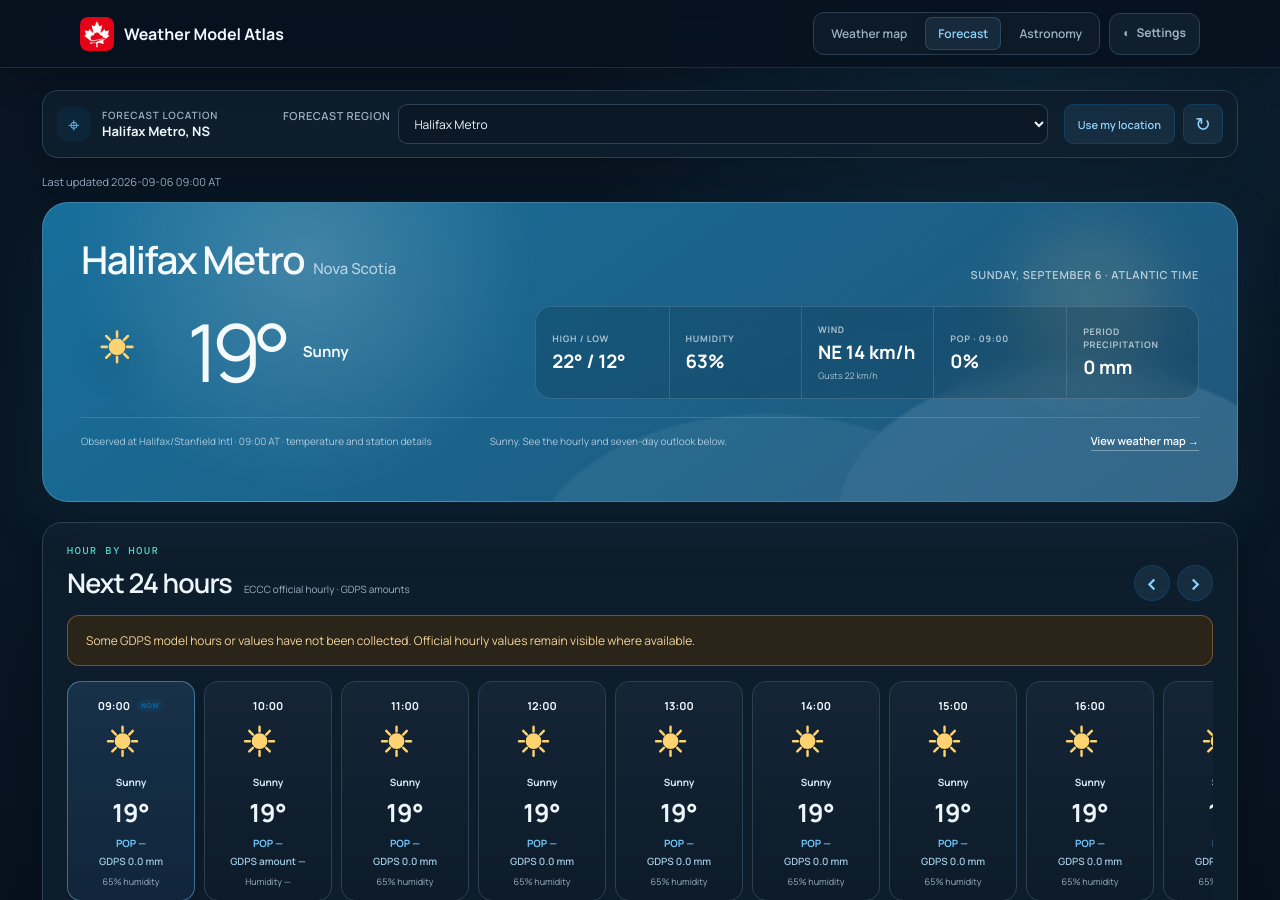
Test: forecast page › clears model amounts on region changes while retaining the bulletin
Select "Yarmouth County" in the dropdown labelled "Forecast region" at (723, 124), box [398, 104, 1048, 144]
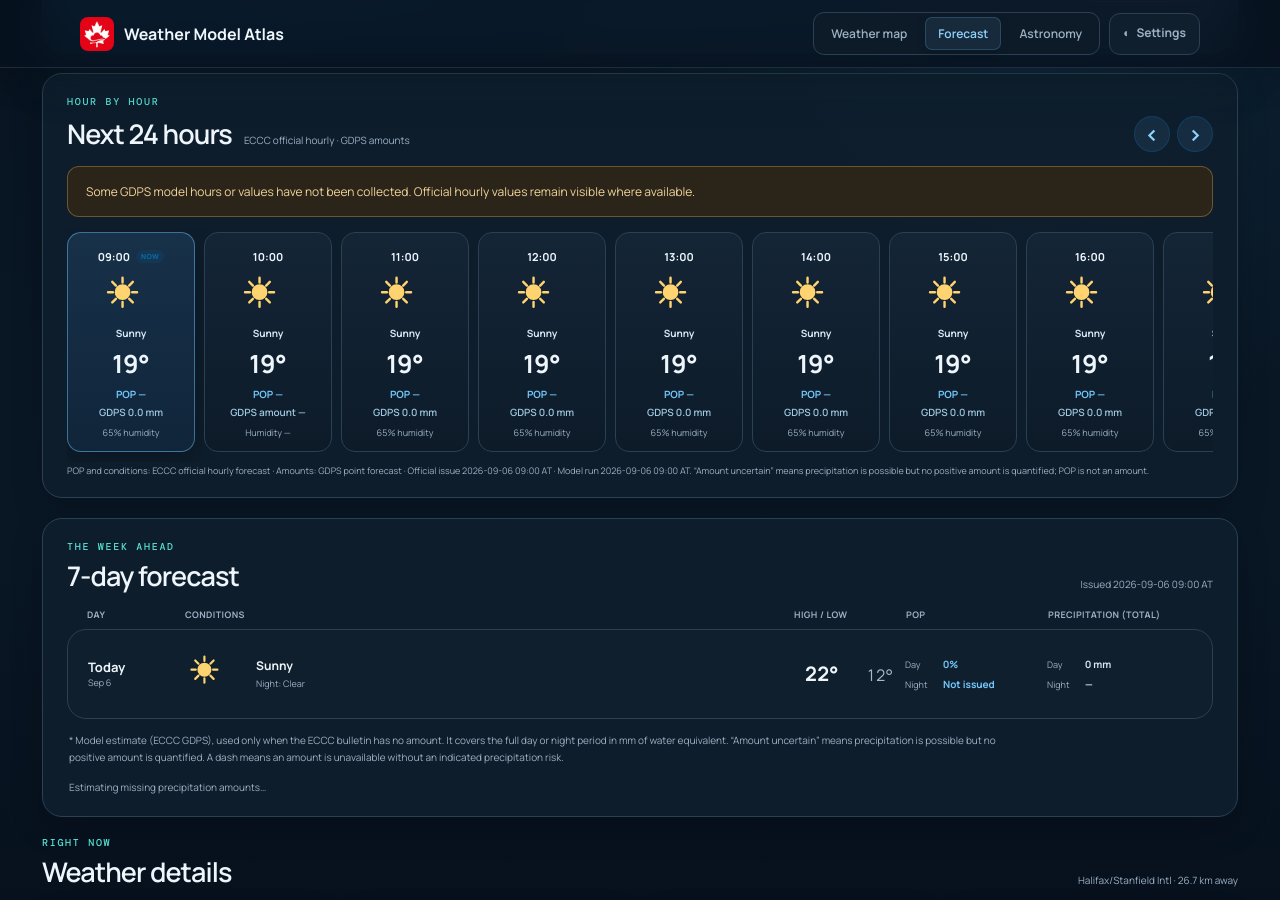
Expected: the text "Estimating missing precipitation amounts…" is shown, [69, 780, 266, 794]
